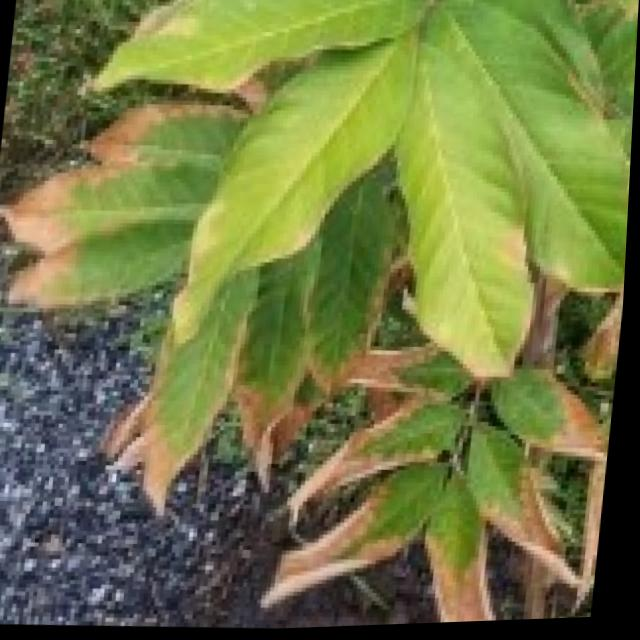Leaf Blight: (175, 332, 623, 634), (13, 54, 156, 336)
